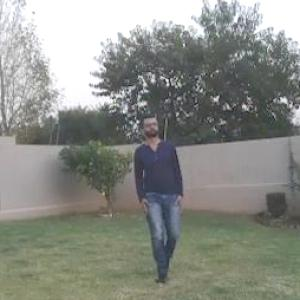follow: (130, 110, 191, 287)
